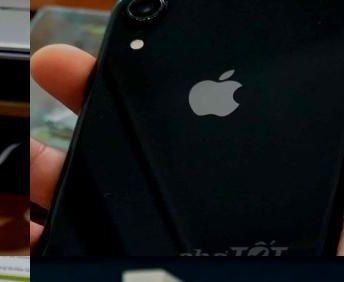scratch: (312, 13, 333, 37), (90, 102, 115, 122), (152, 0, 180, 14), (94, 188, 118, 202)
